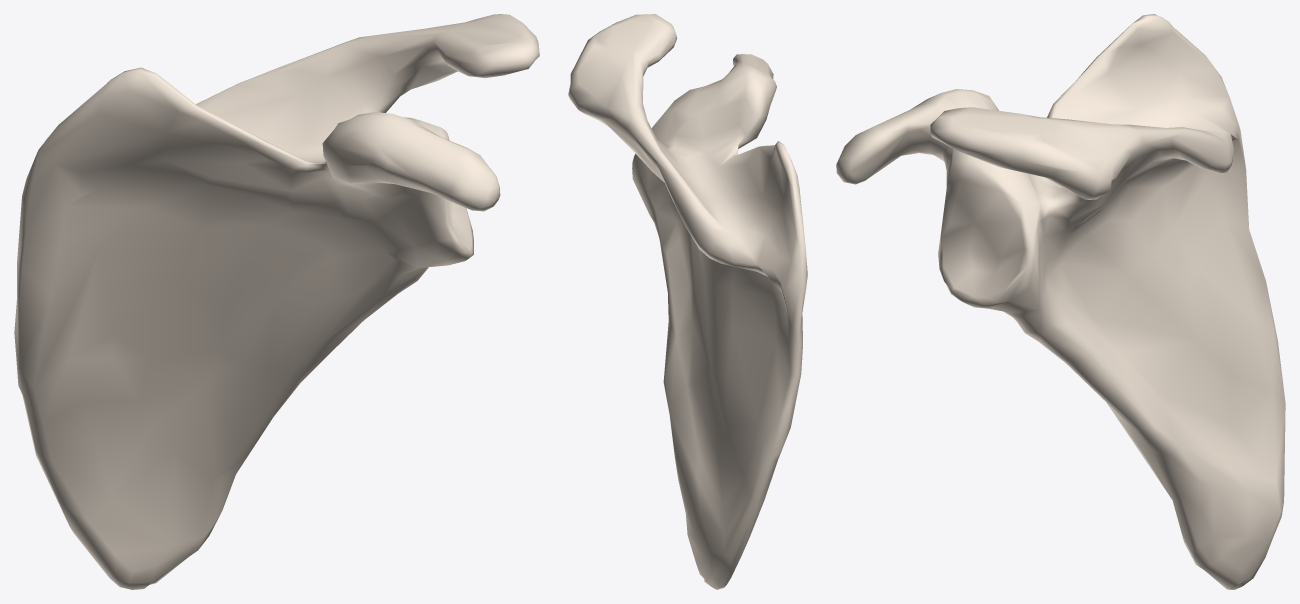
File: left_scapula.glb
3 renders of one model, left to right at view 1: azimuth 30°, elevation 25°; view 2: azimuth 150°, elevation 25°; view 3: azimuth 270°, elevation 25°, orthographic. The views are drawn at different scales.
Parts seen in each view (by area): view 1: Scapula.r.; view 2: Scapula.r.; view 3: Scapula.r..
Boxes of the visible parts, bbox=[...] form: Scapula.r.: bbox=[14, 14, 539, 589]; Scapula.r.: bbox=[568, 14, 807, 589]; Scapula.r.: bbox=[836, 14, 1285, 589].
Bounding box in the file's own units: 0.1132 × 0.1634 × 0.1141.
